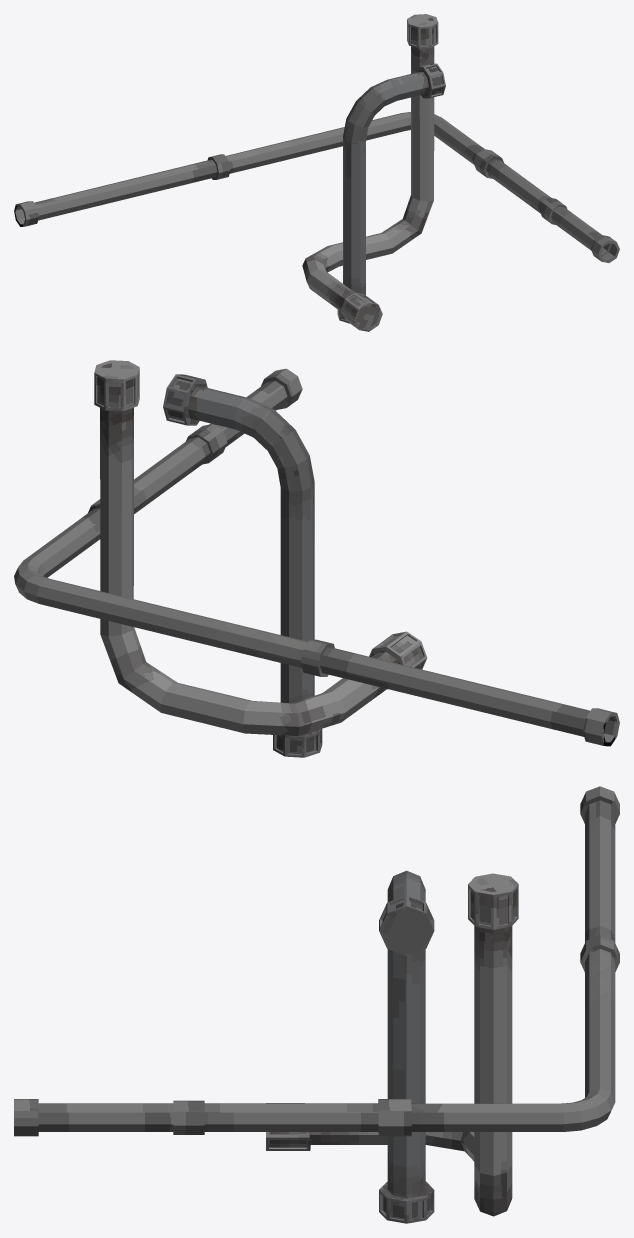
Rendered from pipes_2.fbx.
3 renders of one model, top to bottom at view 1: azimuth 30°, elevation 25°; view 2: azimuth 150°, elevation 25°; view 3: azimuth 270°, elevation 25°, orthographic. The views are drawn at different scales.
Parts seen in each view (by area): view 1: right angle pipe, curvy pipe, vertical pipe; view 2: right angle pipe, curvy pipe, vertical pipe; view 3: right angle pipe, curvy pipe, vertical pipe.
Boxes of the visible parts, box(x1,y1,x2,y2) form: right angle pipe: box(14, 112, 619, 262); curvy pipe: box(302, 14, 438, 331); vertical pipe: box(337, 63, 445, 323); right angle pipe: box(14, 368, 619, 746); curvy pipe: box(94, 360, 427, 735); vertical pipe: box(163, 374, 322, 757); right angle pipe: box(14, 786, 619, 1136); curvy pipe: box(266, 873, 518, 1216); vertical pipe: box(379, 870, 434, 1223).
Bounding box in the file's own units: 500 × 291 × 398.
3 materials, 3 textured.
